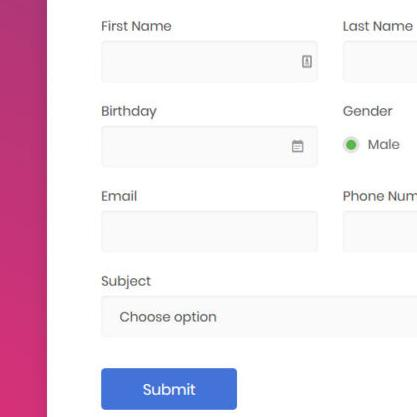button: (99, 365, 238, 413)
field_line: (98, 13, 324, 45), (97, 184, 324, 215), (96, 96, 299, 130)
radio: (341, 133, 361, 155)
radio_with_label: (338, 129, 402, 158)
